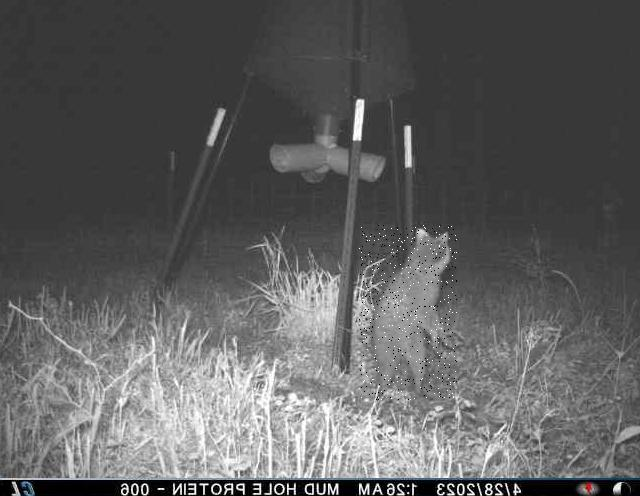Raccoon: (359, 225, 457, 400)
